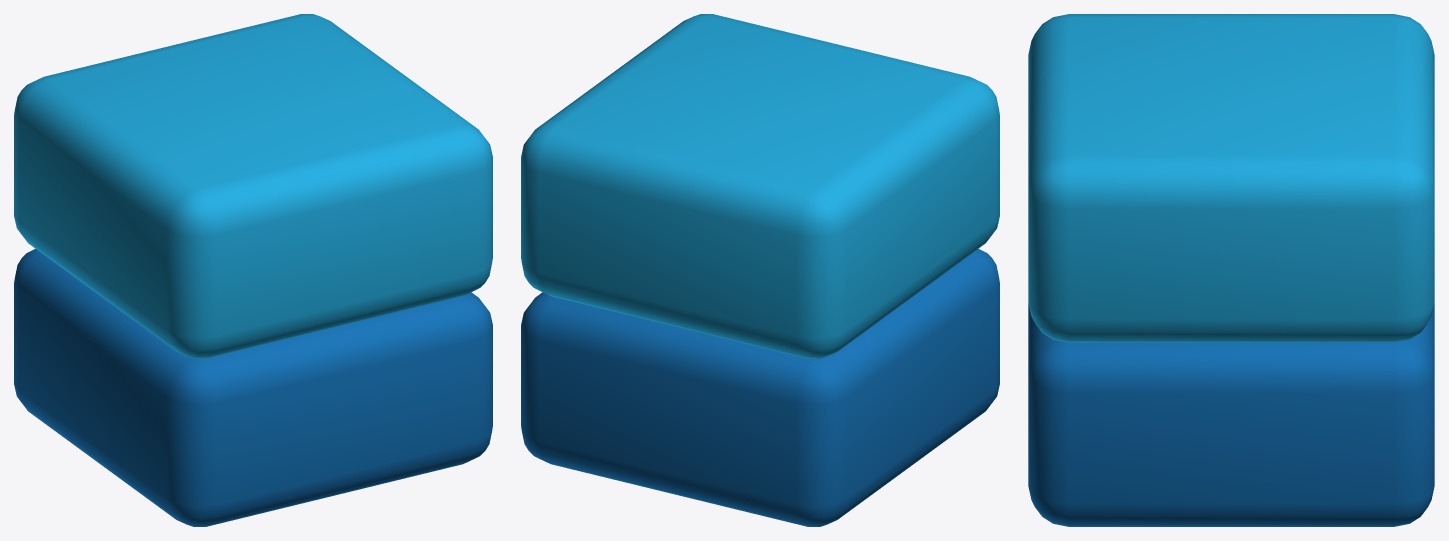
3 renders of one model, left to right at view 1: azimuth 30°, elevation 25°; view 2: azimuth 150°, elevation 25°; view 3: azimuth 270°, elevation 25°, orthographic. The views are drawn at different scales.
Visible parts, largest first — view 1: layer_top, layer_base; view 2: layer_top, layer_base; view 3: layer_top, layer_base.
Part boxes in pixels (bbox=[...]): layer_top: bbox=[14, 14, 492, 358]; layer_base: bbox=[14, 249, 492, 526]; layer_top: bbox=[521, 14, 999, 358]; layer_base: bbox=[521, 249, 999, 526]; layer_top: bbox=[1028, 14, 1434, 342]; layer_base: bbox=[1028, 303, 1434, 526].
Bounding box in the file's own units: 0.2 × 0.2 × 0.2.
